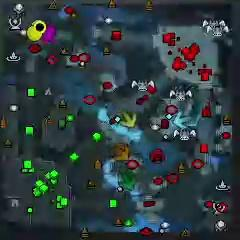p3: (41, 24, 56, 43)
p4: (27, 25, 44, 42)
p4Clone: (34, 21, 46, 35)
x2: (120, 111, 137, 128)
x3: (173, 110, 191, 129)
x4: (119, 172, 138, 191)
x5: (112, 142, 130, 163)
